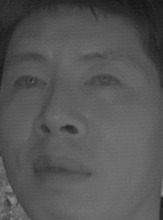eye: (83, 68, 123, 93), (11, 71, 48, 94)
mouth: (29, 149, 95, 191)
